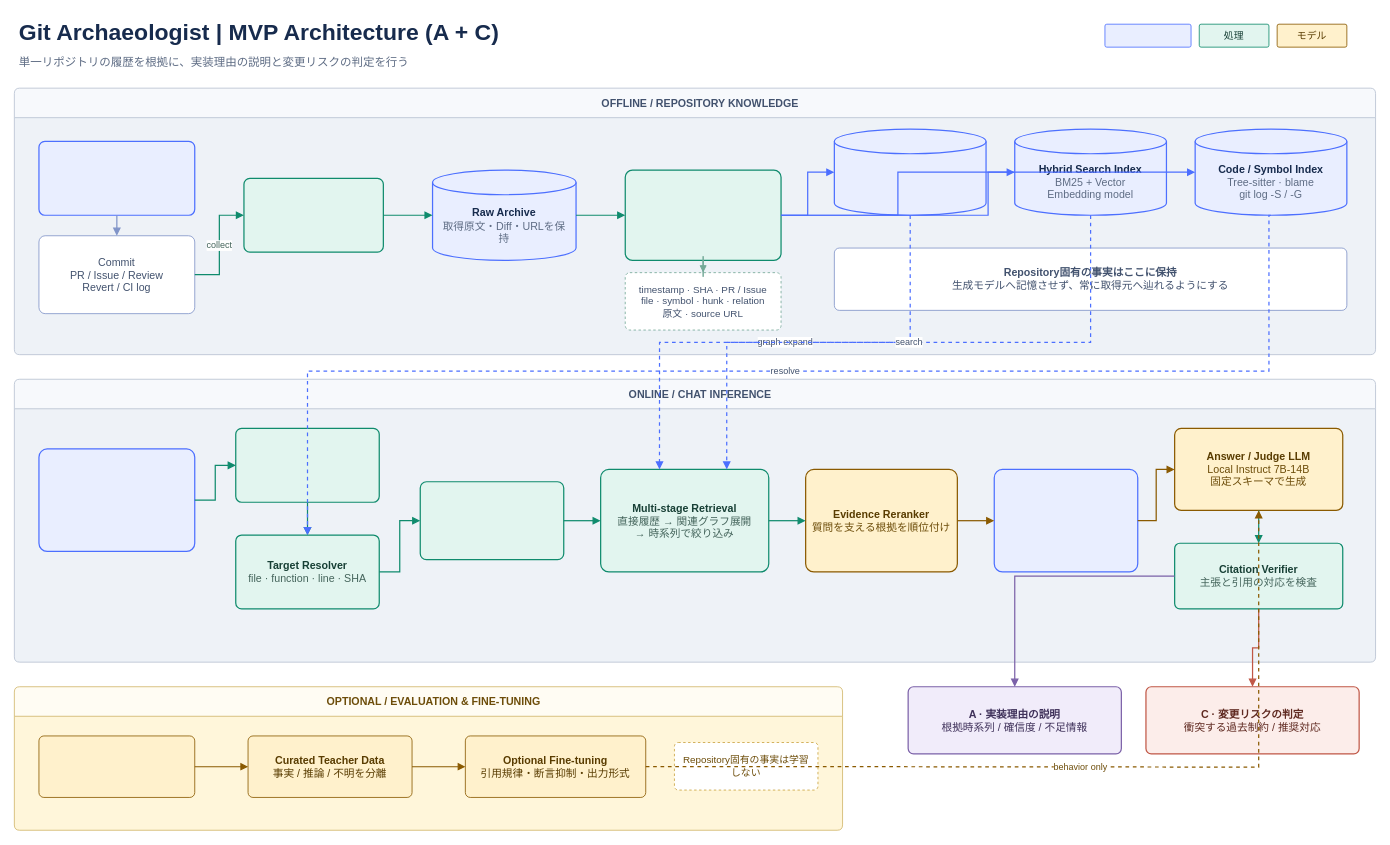
This 1390x845 diagram has some shape labels left out. Here are the shapes that lost their labels. From the top down, the box of each, then its label:
(1104, 23, 1191, 47): 事実・履歴
(38, 140, 195, 215): GitHub Repository 対象は1 repositoryに固定
(833, 128, 986, 215): Event Graph Commit ↔ PR ↔ Issue Review ↔ CI ↔ Revert
(243, 177, 384, 252): Collector gh CLI + git
(624, 169, 781, 261): Event Normalizer 履歴を共通イベントへ変換
(235, 427, 379, 502): Input Interpreter Intent / target /不足情報
(38, 448, 195, 552): Chat Input PR URL + file / function code snippet + 自然言語
(993, 468, 1138, 572): Evidence Pack 原文・Diff・時系列 引用URL・証拠強度
(419, 481, 564, 560): Query Planner 対象から探索経路を決定
(38, 735, 195, 797): Evaluation Log 質問・取得根拠・回答・評価
